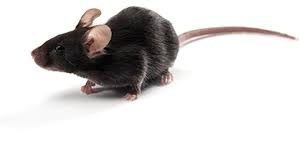mice: (28, 6, 298, 105)
